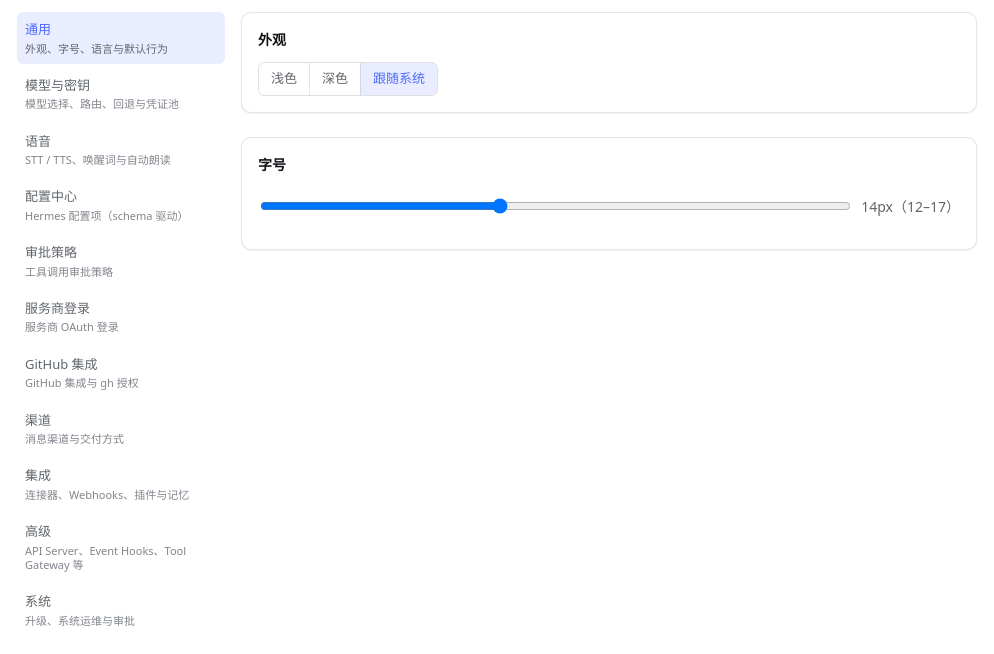
SettingsPage T18.16 系统升级 › opens the system section from the sidebar nav
Click the button "系统 升级、系统运维与审批": (121, 610) [17,584,225,636]
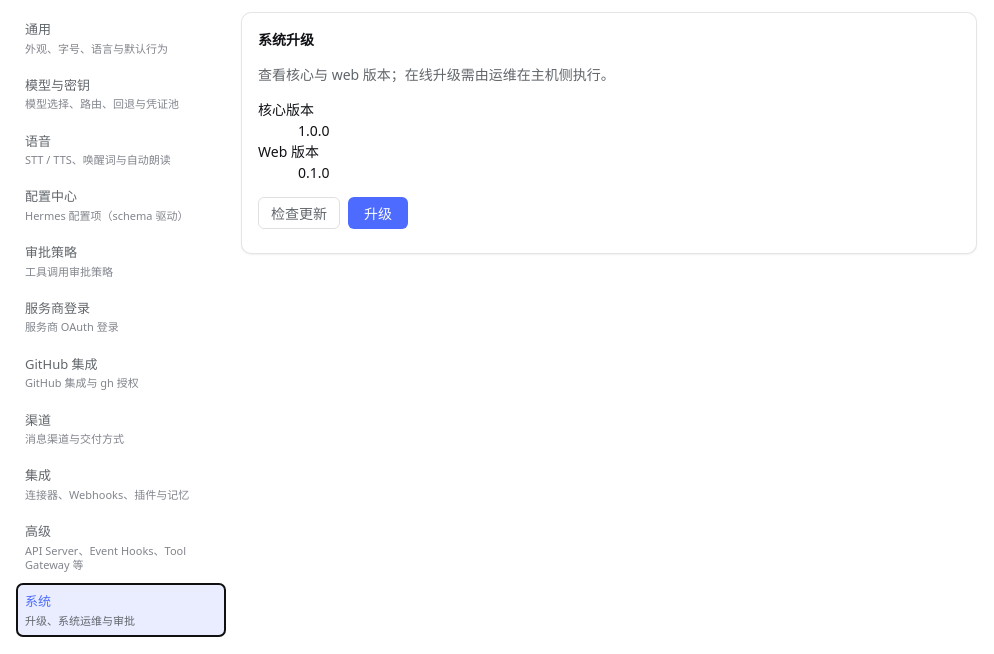
Check: the heading "系统升级" is shown, box [258,30,314,49]
